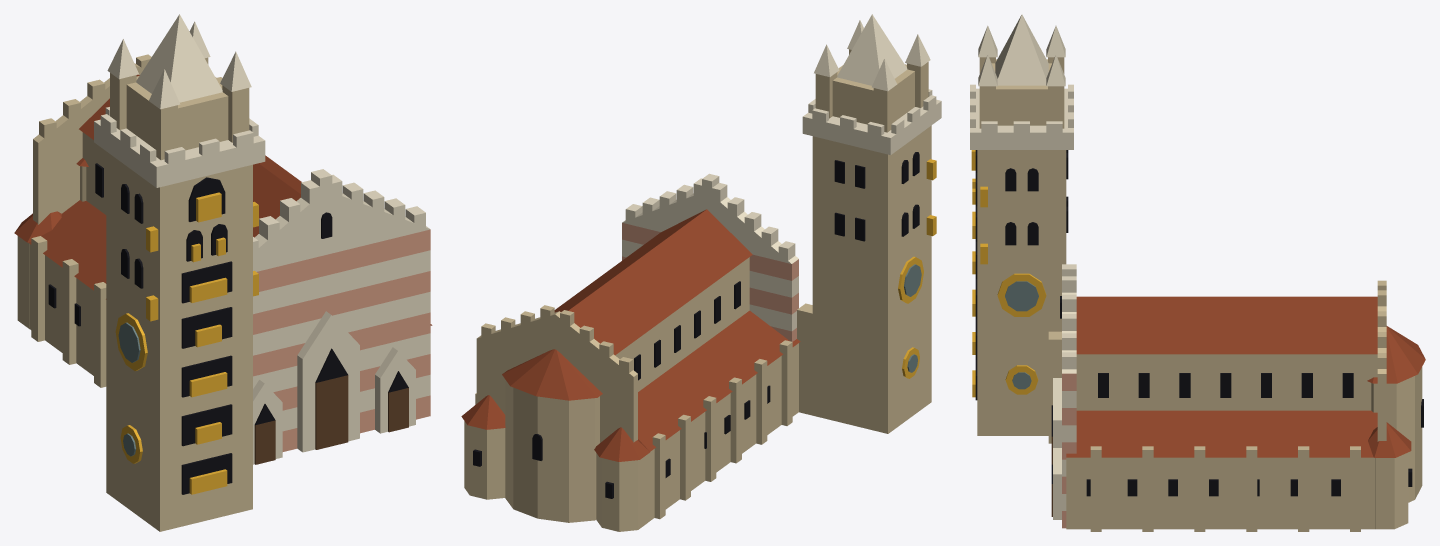
File: messina.glb
3 views of the same model, side by side, from view 1: azimuth 30°, elevation 25°; view 2: azimuth 150°, elevation 25°; view 3: azimuth 270°, elevation 25° (orthographic). The views are drawn at different scales.
Parts seen in each view (by area): view 1: POI_messina; view 2: POI_messina; view 3: POI_messina.
Part boxes in pixels (<box>): POI_messina: <box>14,14,432,531</box>; POI_messina: <box>461,14,941,531</box>; POI_messina: <box>970,14,1425,531</box>.
Size of the model in its own units: 43.7 by 60 by 61.5.
